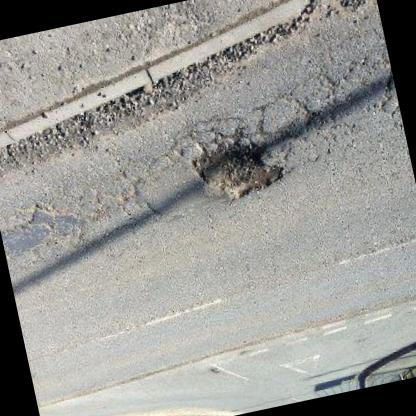pothole: (182, 122, 292, 210)
